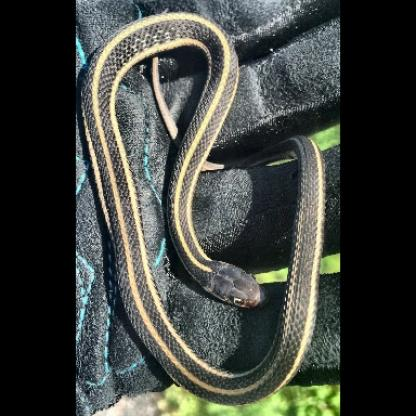Snake: (74, 8, 326, 408)
